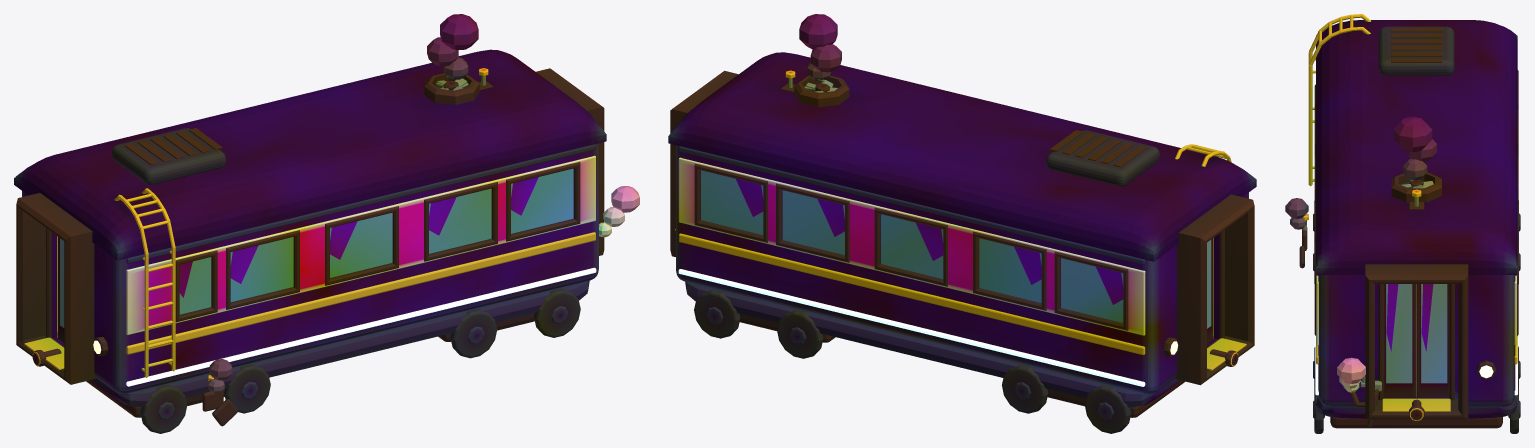
File: FuturisticCoach_Closed_Blockout.glb
3 renders of one model, left to right at view 1: azimuth 30°, elevation 25°; view 2: azimuth 150°, elevation 25°; view 3: azimuth 270°, elevation 25°, orthographic. The views are drawn at different scales.
Visible parts, largest first — view 1: Roof, Body, Windows, Underframe, Ends, Livery, WindowBand, RoofLadder, Broken_Bits__Cooler, Broken_Bits__BrakeHose, Broken_Bits__AxleBox, EndDoorLeaf_R_Rear; view 2: Roof, Body, Windows, Underframe, Ends, Livery, WindowBand, Broken_Bits__Cooler, EndDoorLeaf_L_Rear; view 3: Roof, Body, Ends, EndDoorLeaf_L_Front, Underframe, EndDoorLeaf_R_Front, Broken_Bits__Cooler, RoofLadder, Windows, Broken_Bits__BrakeHose, Broken_Bits__AxleBox, WindowBand (+2 smaller).
Boxes of the visible parts, x1,y1,x2,y2 form: Roof: [14, 49, 606, 260]; Body: [22, 143, 598, 393]; Windows: [175, 162, 580, 322]; Underframe: [86, 281, 589, 433]; Ends: [16, 68, 604, 384]; Livery: [126, 144, 596, 386]; WindowBand: [126, 155, 595, 334]; RoofLadder: [114, 188, 175, 377]; Broken_Bits__Cooler: [427, 14, 478, 90]; Broken_Bits__BrakeHose: [599, 186, 639, 237]; Broken_Bits__AxleBox: [207, 359, 237, 426]; EndDoorLeaf_R_Rear: [57, 236, 64, 342]; Roof: [668, 52, 1256, 261]; Body: [676, 145, 1248, 394]; Windows: [694, 163, 1128, 330]; Underframe: [685, 282, 1184, 433]; Ends: [670, 70, 1254, 385]; Livery: [678, 146, 1145, 386]; WindowBand: [678, 157, 1145, 335]; Broken_Bits__Cooler: [799, 14, 841, 92]; EndDoorLeaf_L_Rear: [1207, 238, 1213, 342]; Roof: [1316, 20, 1517, 274]; Body: [1318, 275, 1515, 407]; Ends: [1339, 264, 1496, 419]; EndDoorLeaf_L_Front: [1383, 284, 1416, 397]; Underframe: [1313, 200, 1520, 433]; EndDoorLeaf_R_Front: [1417, 284, 1449, 397]; Broken_Bits__Cooler: [1393, 116, 1436, 188]; RoofLadder: [1308, 14, 1370, 186]; Windows: [1314, 70, 1518, 336]; Broken_Bits__BrakeHose: [1337, 357, 1379, 427]; Broken_Bits__AxleBox: [1285, 198, 1308, 268]; WindowBand: [1316, 275, 1516, 345].
Size of the model in its own units: 8.45 by 4.21 by 3.1.
